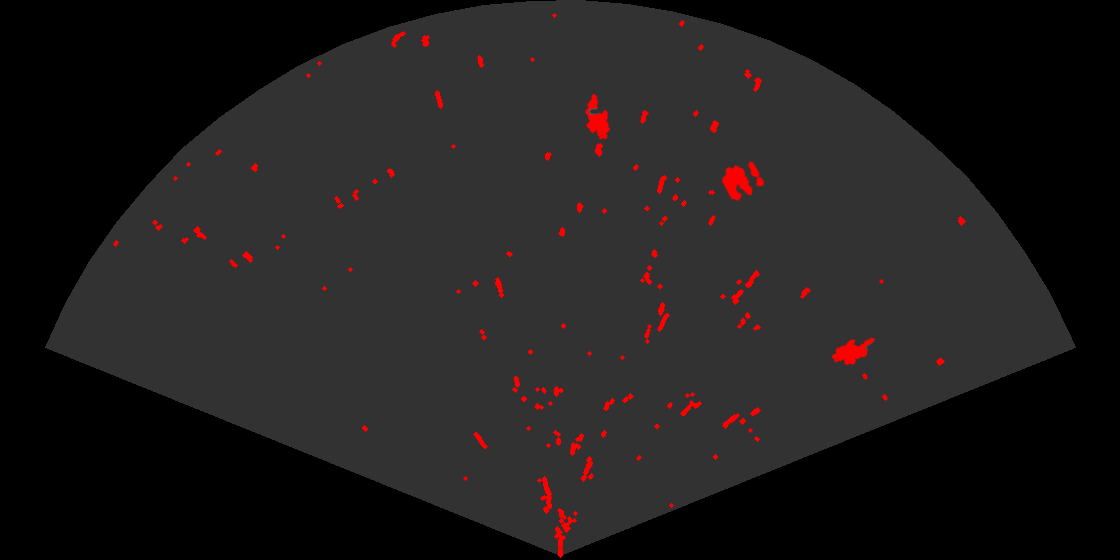AUV: (830, 336, 876, 367), (584, 92, 611, 141)
ball: (720, 159, 766, 203)
